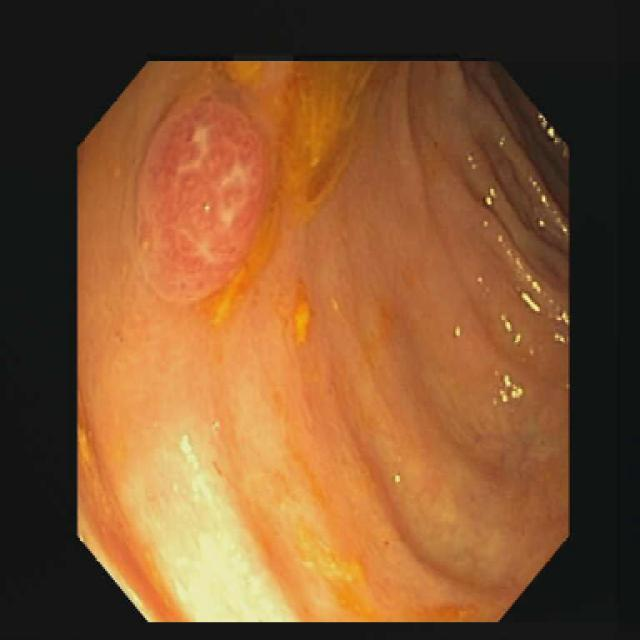tumor: (138, 91, 267, 300)
